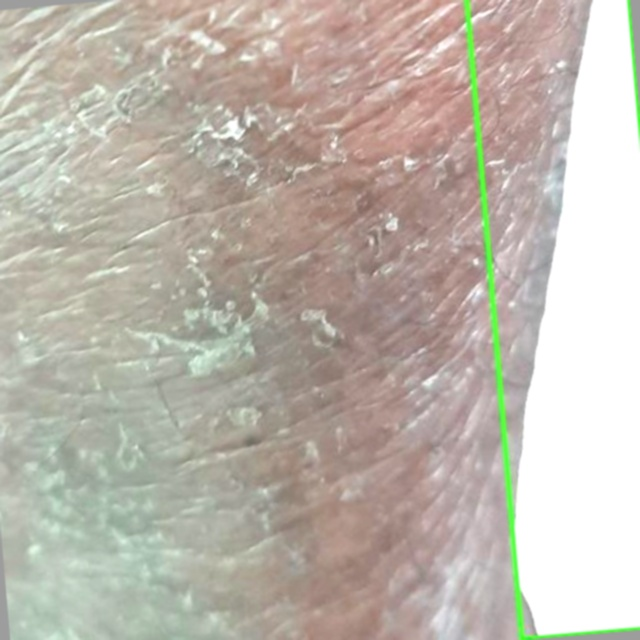Tinea Corporis: (467, 0, 639, 638)
